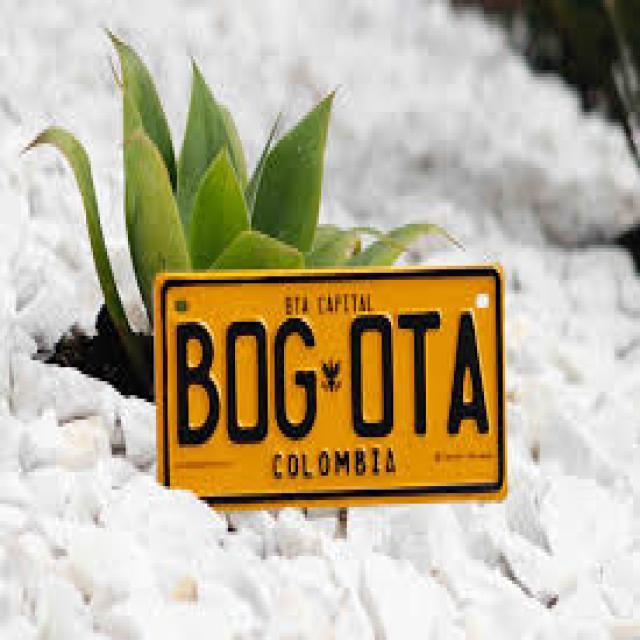number plate: (151, 262, 503, 500)
